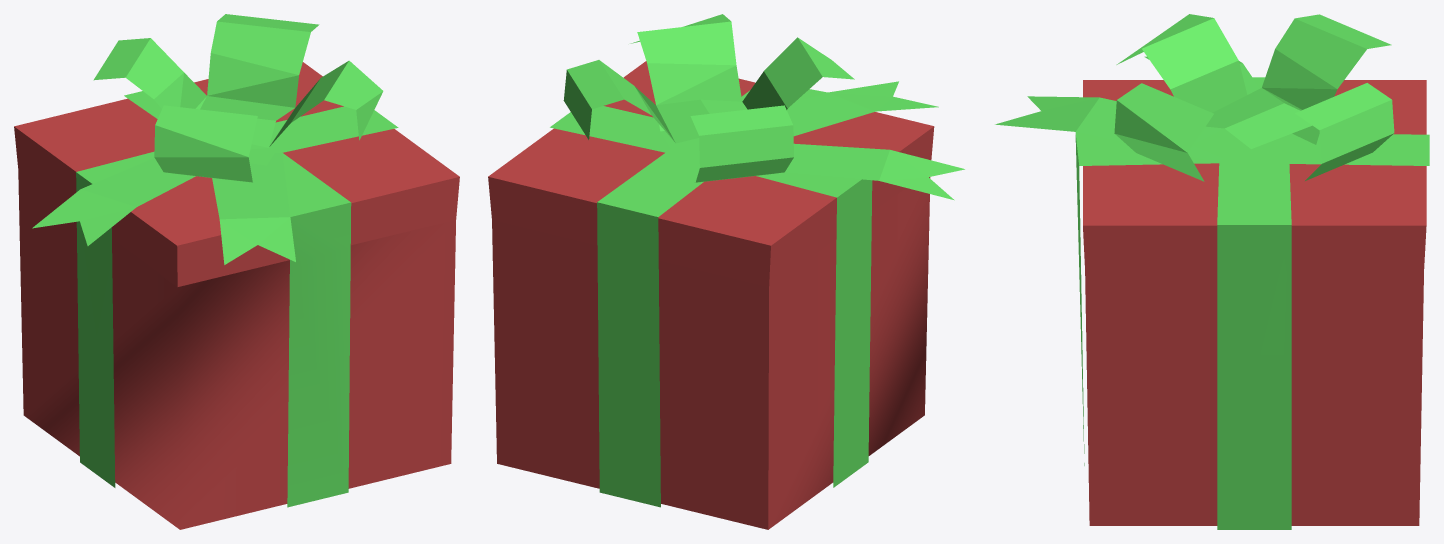
The model's file is gift-prepared.glb.
3 renders of one model, left to right at view 1: azimuth 30°, elevation 25°; view 2: azimuth 150°, elevation 25°; view 3: azimuth 270°, elevation 25°, orthographic. The views are drawn at different scales.
Parts seen in each view (by area): view 1: BoxFront, Lid, BoxLeft, Bow, RibbonFront, RibbonLid, RibbonLeft, PullTail; view 2: BoxBack, Lid, BoxLeft, Bow, RibbonBack, RibbonLid, RibbonLeft, PullTail; view 3: BoxRight, Lid, Bow, RibbonRight, RibbonLid, PullTail, RibbonFront.
Part boxes in pixels (<box>): BoxFront: <box>177,220,455,529</box>; Lid: <box>14,62,459,286</box>; BoxLeft: <box>18,170,179,529</box>; Bow: <box>32,14,383,245</box>; RibbonFront: <box>287,247,350,507</box>; RibbonLid: <box>76,91,398,263</box>; RibbonLeft: <box>76,221,115,487</box>; PullTail: <box>212,152,295,264</box>; BoxBack: <box>492,220,768,529</box>; Lid: <box>488,61,934,286</box>; BoxLeft: <box>768,177,930,529</box>; Bow: <box>563,14,964,200</box>; RibbonBack: <box>597,247,660,507</box>; RibbonLid: <box>550,89,872,261</box>; RibbonLeft: <box>833,216,871,487</box>; PullTail: <box>787,81,938,136</box>; BoxRight: <box>1085,269,1423,525</box>; Lid: <box>1083,80,1426,269</box>; Bow: <box>1114,14,1394,181</box>; RibbonRight: <box>1217,271,1291,529</box>; RibbonLid: <box>1075,77,1429,271</box>; PullTail: <box>995,96,1223,162</box>; RibbonFront: <box>1077,188,1084,465</box>.
Bounding box in the file's own units: 0.1687 × 0.163 × 0.1639.
Materials: 1 (1 with a texture image).
